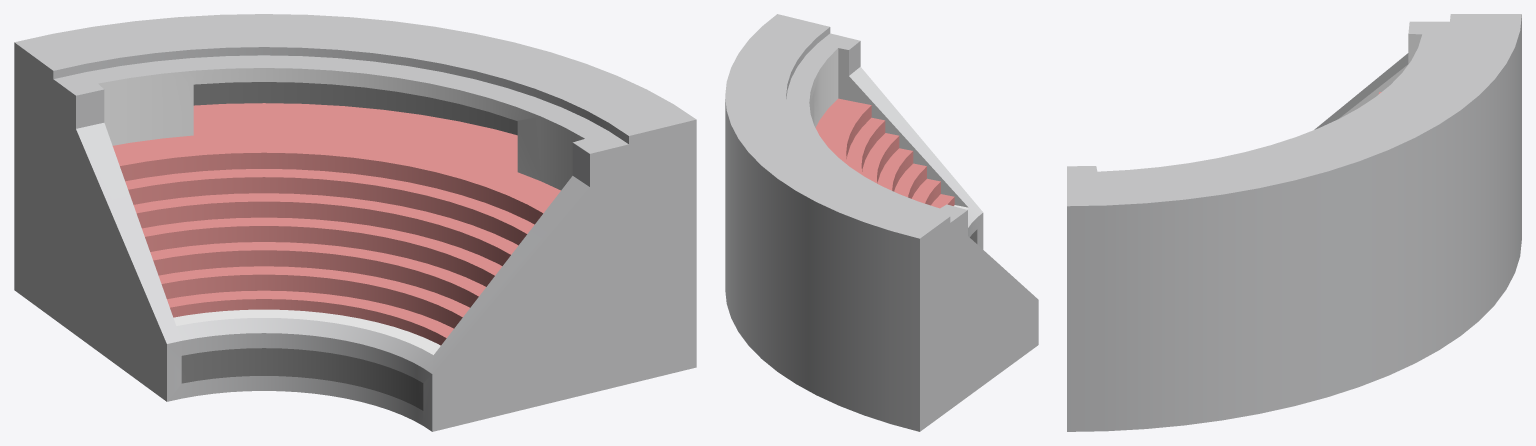
File: grand-stand-round.glb
3 views of the same model, side by side, from view 1: azimuth 30°, elevation 25°; view 2: azimuth 150°, elevation 25°; view 3: azimuth 270°, elevation 25° (orthographic). The views are drawn at different scales.
Visible parts, largest first — view 1: grandStandRound(Clone); view 2: grandStandRound(Clone); view 3: grandStandRound(Clone).
Part boxes in pixels (x1,y1,x2,y2): grandStandRound(Clone): [14, 14, 696, 431]; grandStandRound(Clone): [725, 14, 1038, 431]; grandStandRound(Clone): [1067, 14, 1521, 431].
Size of the model in its own units: 1.64 by 0.8964 by 1.64.
